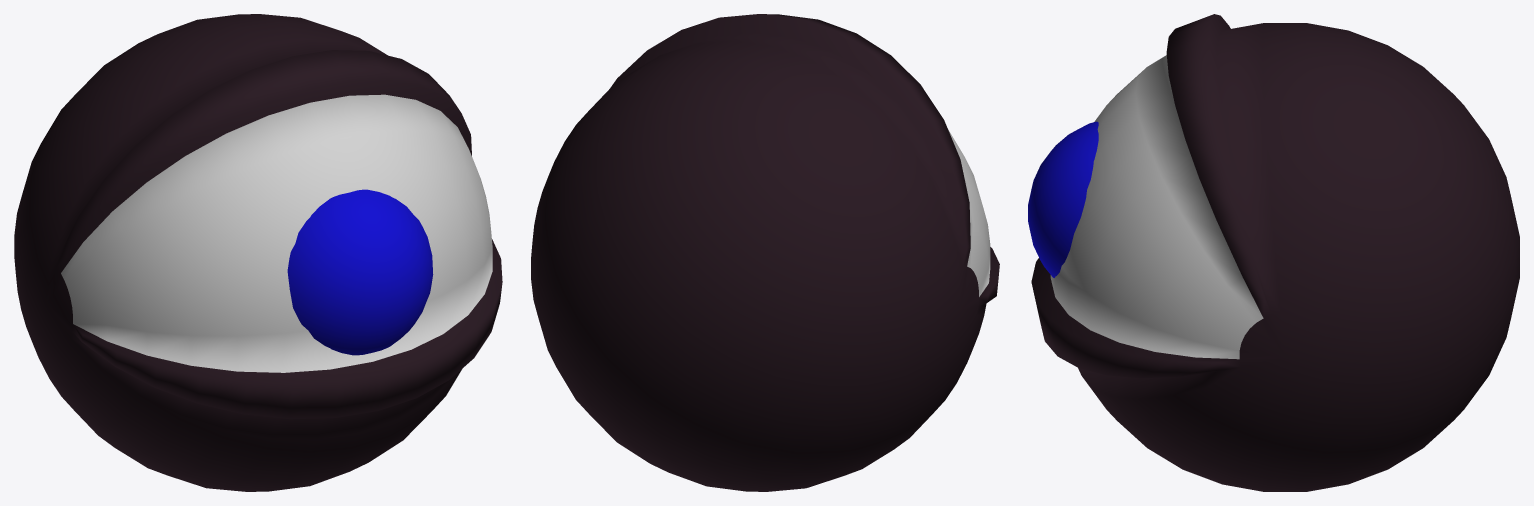
The model's file is eyeball.obj.
3 views of the same model, side by side, from view 1: azimuth 30°, elevation 25°; view 2: azimuth 150°, elevation 25°; view 3: azimuth 270°, elevation 25° (orthographic). The views are drawn at different scales.
Visible parts, largest first — view 1: Sphere.001; view 2: Sphere.001; view 3: Sphere.001.
Part boxes in pixels (box(x1,y1,x2,y2)): Sphere.001: box(14, 14, 502, 491); Sphere.001: box(531, 14, 999, 491); Sphere.001: box(1028, 14, 1519, 491).
Bounding box in the file's own units: 2 × 2.03 × 2.09.
